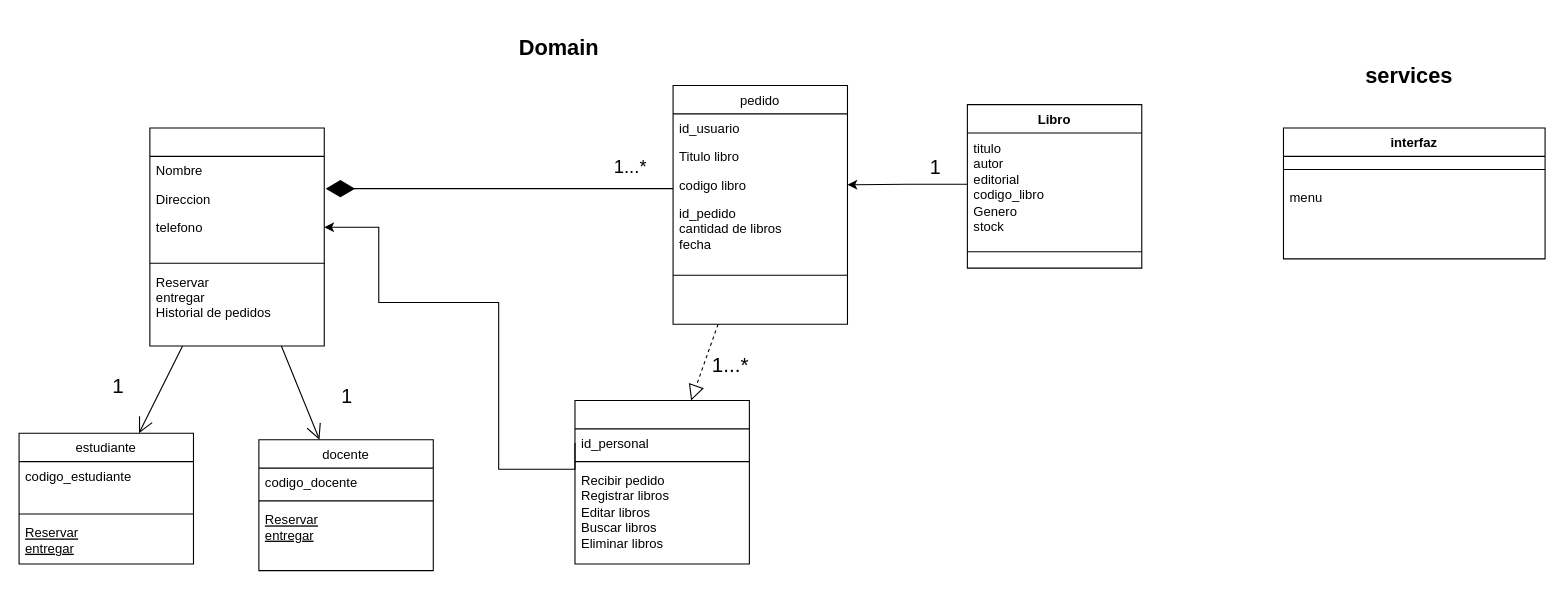
Some shapes in this 1564 by 590 pixel diagram are drawn without their labels. Each missing label, with the box of its shape:
bibliotecario: (574, 399, 749, 564)
lector: (149, 127, 324, 346)
